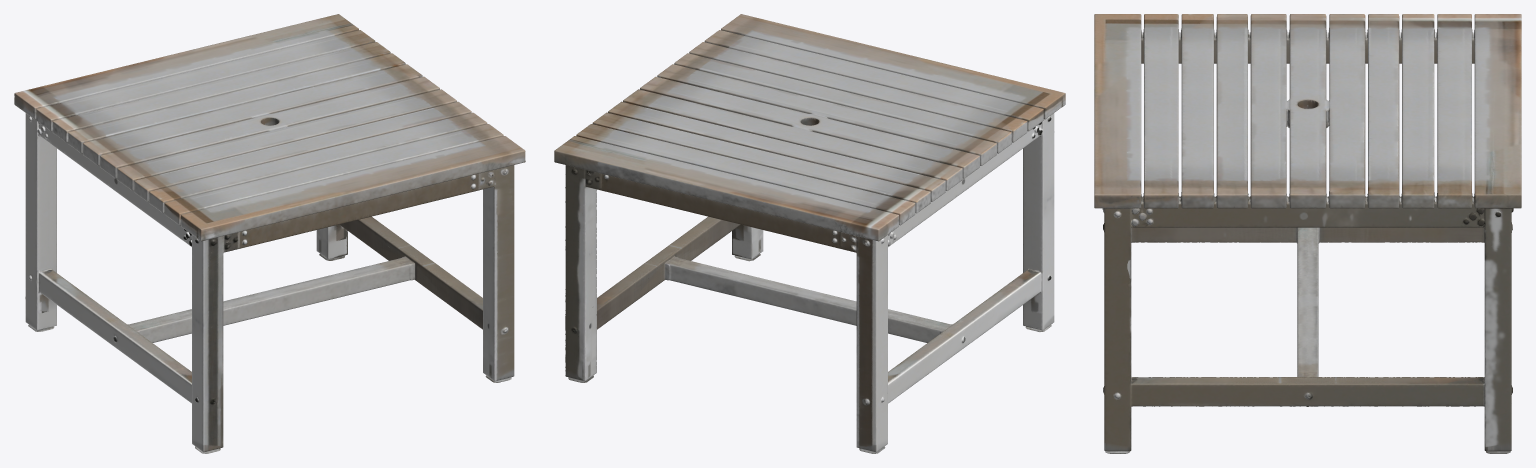
File: Meshy_AI_Otto_90cm_x90cm_Tabl_0324205040_texture-v1.glb
The picture shows the model from 3 angles, left to right: view 1: azimuth 30°, elevation 25°; view 2: azimuth 150°, elevation 25°; view 3: azimuth 270°, elevation 25°; orthographic projection. The views are drawn at different scales.
Visible parts, largest first — view 1: Mesh_0.001; view 2: Mesh_0.001; view 3: Mesh_0.001.
Part boxes in pixels (x1,y1,x2,y2): Mesh_0.001: (14,14,525,453); Mesh_0.001: (554,14,1065,453); Mesh_0.001: (1094,14,1521,453).
Bounding box in the file's own units: 1.09 × 0.74 × 1.09.
Materials: 1 (1 with a texture image).
